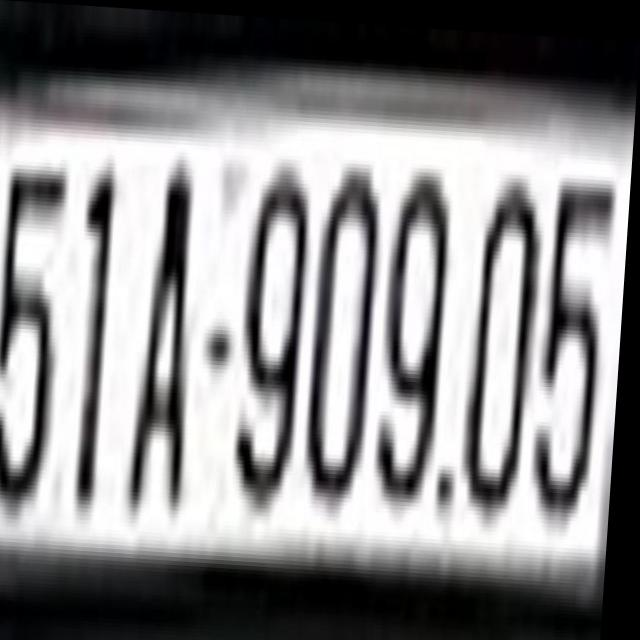0: (307, 160, 385, 502), (468, 158, 544, 506)
1: (65, 156, 127, 504)
5: (536, 169, 621, 517), (0, 145, 71, 509)
9: (374, 153, 456, 516), (238, 169, 314, 525)
A: (131, 140, 213, 516)
